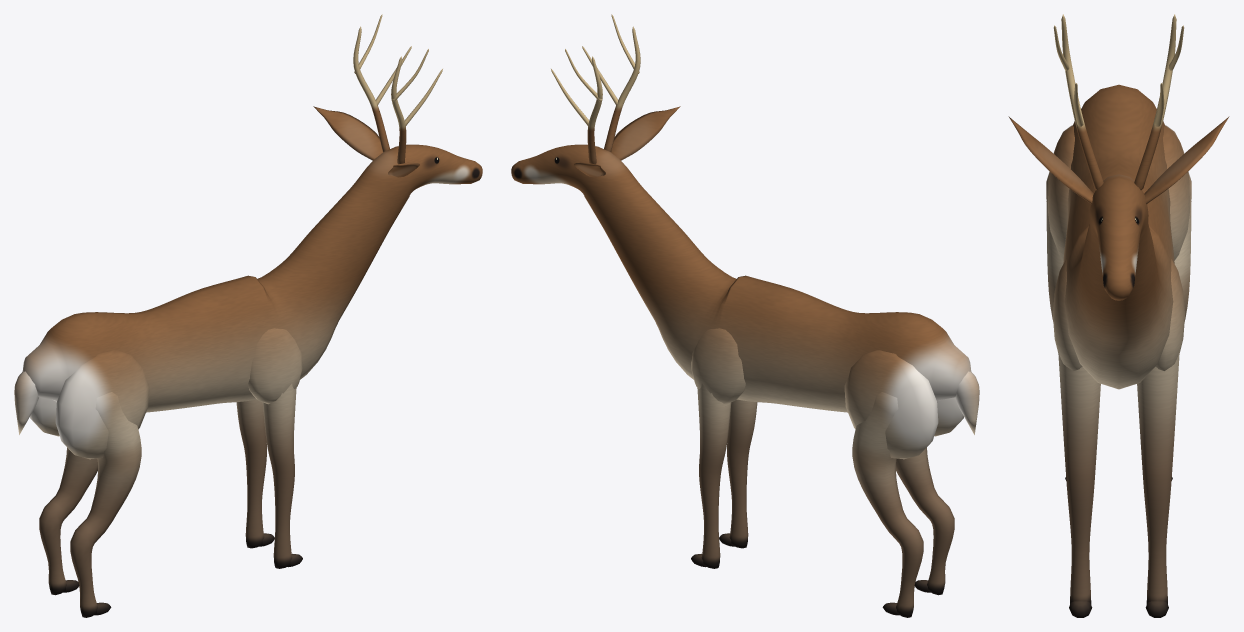
The model's file is deer.fbx.
The picture shows the model from 3 angles, left to right: view 1: azimuth 30°, elevation 25°; view 2: azimuth 150°, elevation 25°; view 3: azimuth 270°, elevation 25°; orthographic projection. The views are drawn at different scales.
Parts seen in each view (by area): view 1: deer; view 2: deer; view 3: deer.
Boxes of the visible parts, left/top/right/bottom form: deer: left=14, top=14, right=482, bottom=617; deer: left=511, top=14, right=979, bottom=617; deer: left=1008, top=14, right=1229, bottom=617.
Bounding box in the file's own units: 51.56 × 172 × 174.
1 material, 1 textured.
